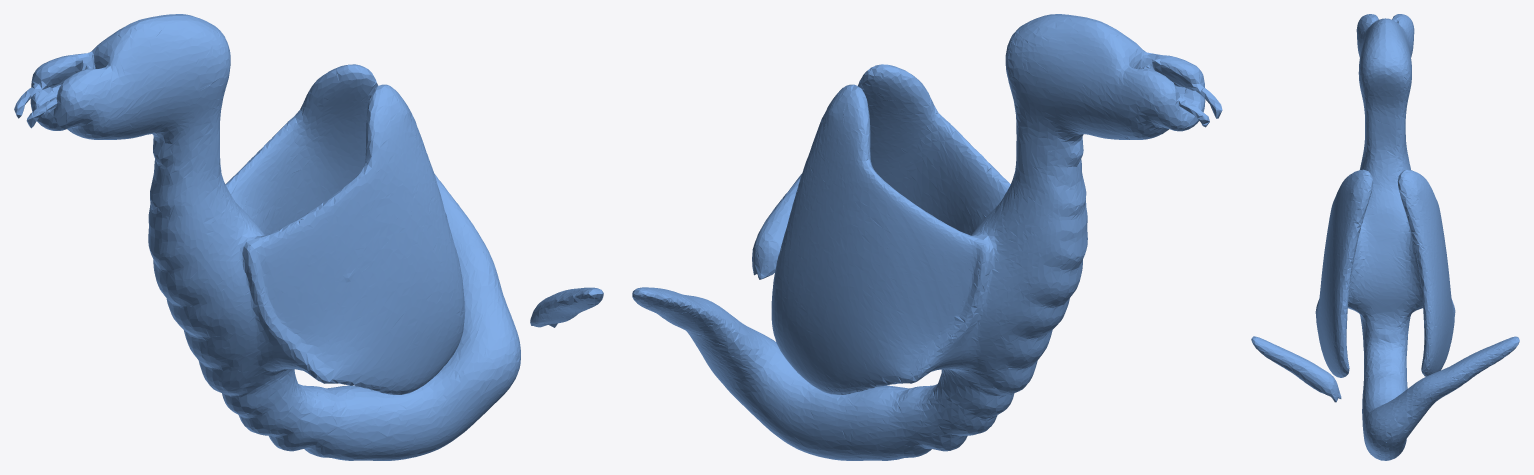
File: animated_mesh.glb
The picture shows the model from 3 angles, left to right: view 1: azimuth 30°, elevation 25°; view 2: azimuth 150°, elevation 25°; view 3: azimuth 270°, elevation 25°; orthographic projection. The views are drawn at different scales.
Parts seen in each view (by area): view 1: AnimatedMesh; view 2: AnimatedMesh; view 3: AnimatedMesh.
Part boxes in pixels (x1,y1,x2,y2): AnimatedMesh: [14, 14, 603, 460]; AnimatedMesh: [632, 14, 1222, 460]; AnimatedMesh: [1251, 14, 1519, 460].
Bounding box in the file's own units: 1.88 × 1.77 × 1.26.
